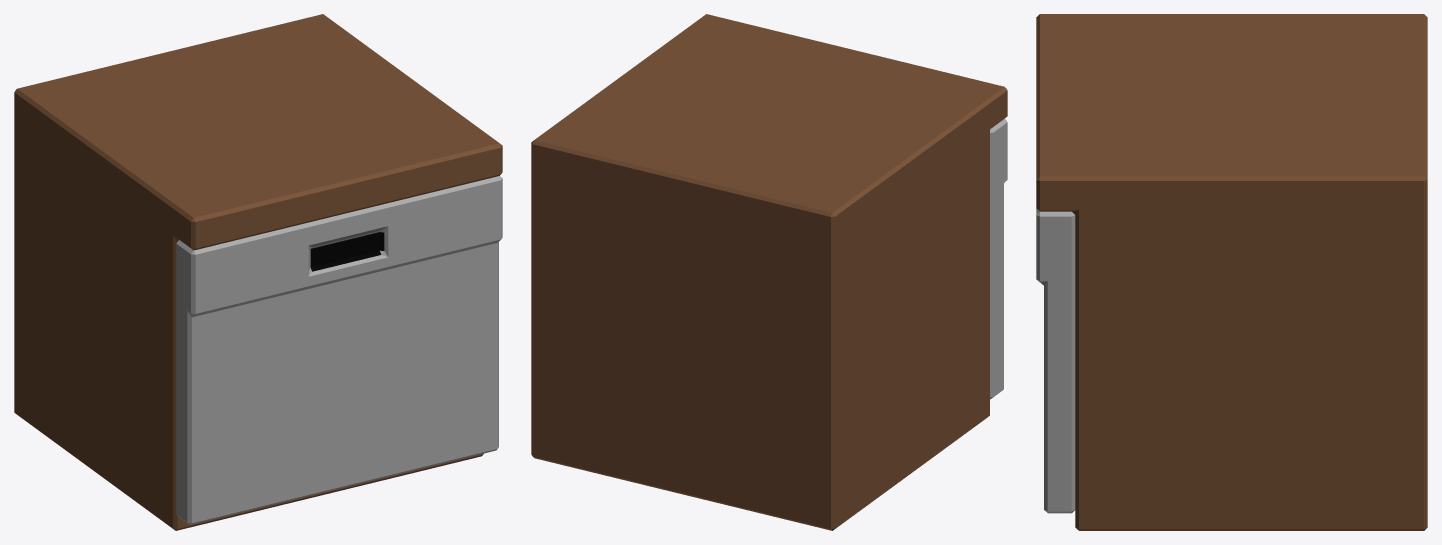
File: tmp_dishwasher.fbx
The picture shows the model from 3 angles, left to right: view 1: azimuth 30°, elevation 25°; view 2: azimuth 150°, elevation 25°; view 3: azimuth 270°, elevation 25°; orthographic projection. The views are drawn at different scales.
Visible parts, largest first — view 1: Dishwasher; view 2: Dishwasher; view 3: Dishwasher.
Part boxes in pixels (x1=…): Dishwasher: x1=14, y1=14, x2=502, y2=530; Dishwasher: x1=531, y1=14, x2=1007, y2=530; Dishwasher: x1=1036, y1=14, x2=1427, y2=530.
Size of the model in its own units: 100 by 100 by 100.
